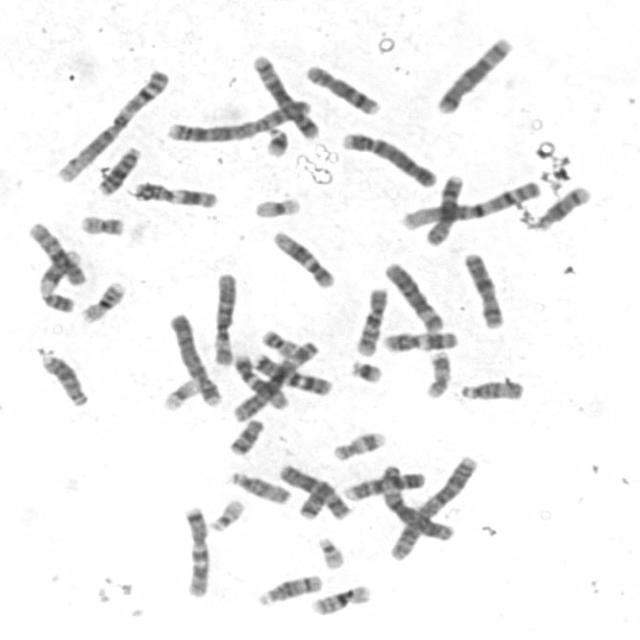A1: (51, 64, 172, 184), (397, 175, 543, 232)
A2: (384, 450, 482, 563), (162, 94, 316, 144)
A3: (229, 335, 321, 422), (376, 460, 456, 542)
B4: (337, 126, 440, 189), (164, 307, 224, 408)
B5: (432, 31, 516, 116), (248, 49, 322, 141)
C10: (24, 217, 88, 287), (351, 282, 391, 358)
C11: (129, 177, 221, 210), (380, 326, 461, 354)
C12: (268, 226, 338, 290), (230, 349, 291, 412)
C6: (379, 257, 446, 334), (208, 268, 239, 367)
C7: (249, 346, 333, 396), (179, 501, 213, 599)
C8: (302, 60, 383, 116), (421, 168, 468, 247)
C9: (34, 244, 86, 314), (340, 466, 429, 503)
D13: (36, 346, 91, 408), (93, 142, 143, 197)
D14: (530, 180, 594, 232), (253, 569, 325, 607)
D15: (226, 466, 293, 506), (454, 374, 526, 402)
E16: (77, 276, 129, 324), (306, 580, 374, 616)
E17: (328, 426, 388, 462), (421, 345, 453, 400)
E18: (296, 476, 338, 520), (225, 414, 267, 457)
F19: (158, 374, 202, 412), (250, 192, 304, 219)
F20: (256, 324, 302, 358), (75, 210, 127, 237)
G21: (346, 355, 385, 384), (261, 122, 292, 158)
G22: (205, 494, 247, 533), (313, 532, 348, 571)
X: (274, 458, 354, 520), (459, 247, 508, 330)
